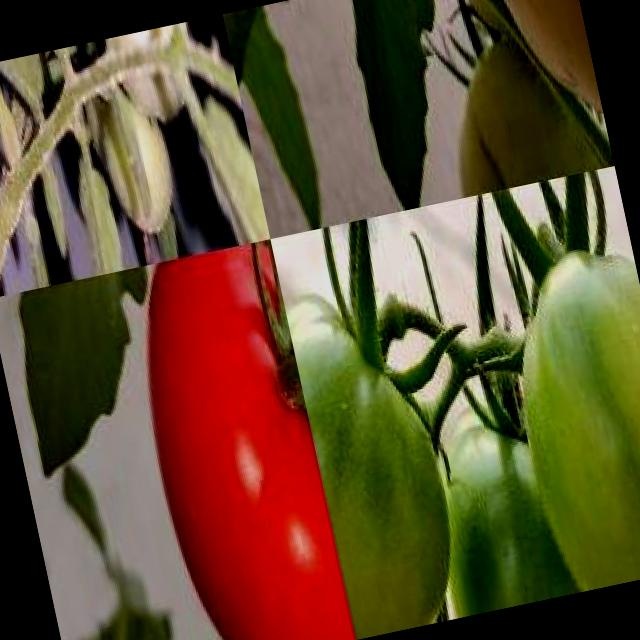Fresh_Tomato: (117, 239, 355, 640)
